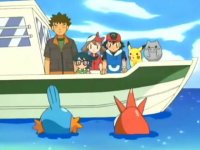mudkip: (27, 83, 83, 136)
pikachu: (127, 43, 146, 70)
